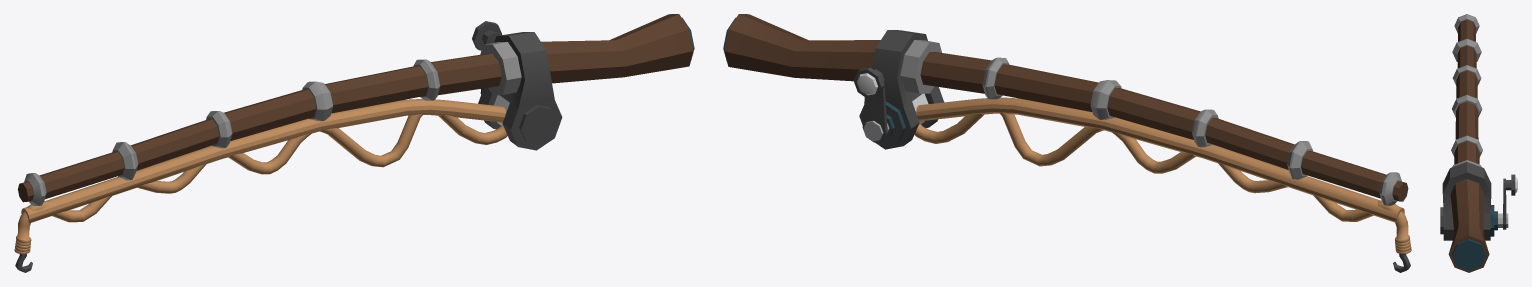
The model's file is FishingRod.fbx.
3 renders of one model, left to right at view 1: azimuth 30°, elevation 25°; view 2: azimuth 150°, elevation 25°; view 3: azimuth 270°, elevation 25°, orthographic. The views are drawn at different scales.
Visible parts, largest first — view 1: FishingRod, RopeTensed, FishingLine, RopeUntensed; view 2: FishingRod, RopeTensed, RopeUntensed, FishingLine; view 3: FishingRod, FishingLine.
Part boxes in pixels (left/top/right/bottom): FishingRod: left=18, top=14, right=694, bottom=205; RopeTensed: left=21, top=99, right=505, bottom=222; FishingLine: left=472, top=21, right=562, bottom=150; RopeUntensed: left=14, top=114, right=507, bottom=272; FishingRod: left=723, top=14, right=1408, bottom=205; RopeTensed: left=916, top=97, right=1404, bottom=222; RopeUntensed: left=914, top=113, right=1411, bottom=272; FishingLine: left=853, top=30, right=943, bottom=149; FishingRod: left=1448, top=14, right=1489, bottom=272; FishingLine: left=1440, top=162, right=1517, bottom=240.
Size of the model in its own units: 378 by 64.56 by 53.8.
